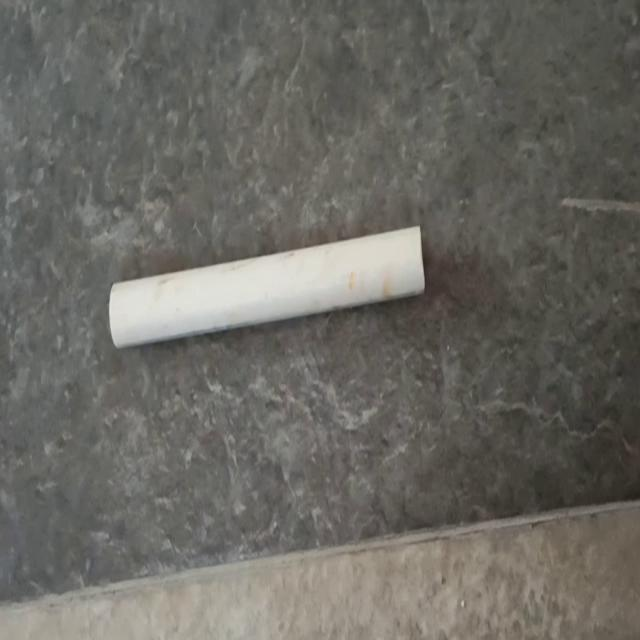Cube: (108, 222, 426, 350)
